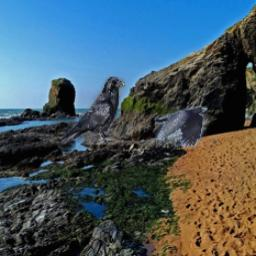Crow: (62, 76, 125, 145), (155, 106, 208, 147)
